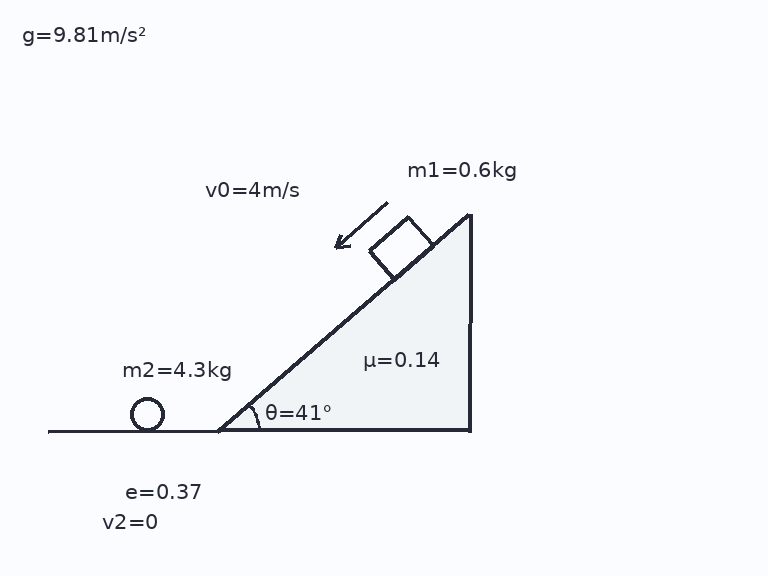ball: (128, 395, 166, 433)
block: (367, 215, 434, 281)
ramp: (217, 211, 472, 433)
